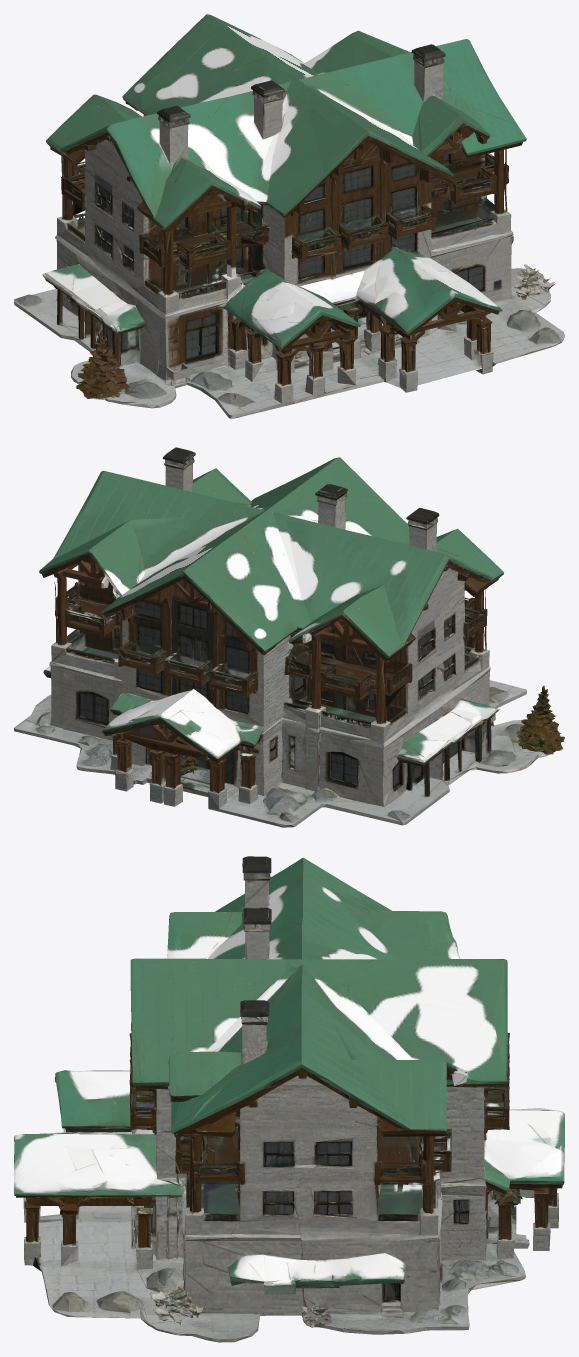
Rendered from hotel_lodge.glb.
3 renders of one model, top to bottom at view 1: azimuth 30°, elevation 25°; view 2: azimuth 150°, elevation 25°; view 3: azimuth 270°, elevation 25°, orthographic. The views are drawn at different scales.
Size of the model in its own units: 1.89 by 0.9382 by 1.65.
Materials: 1 (1 with a texture image).
